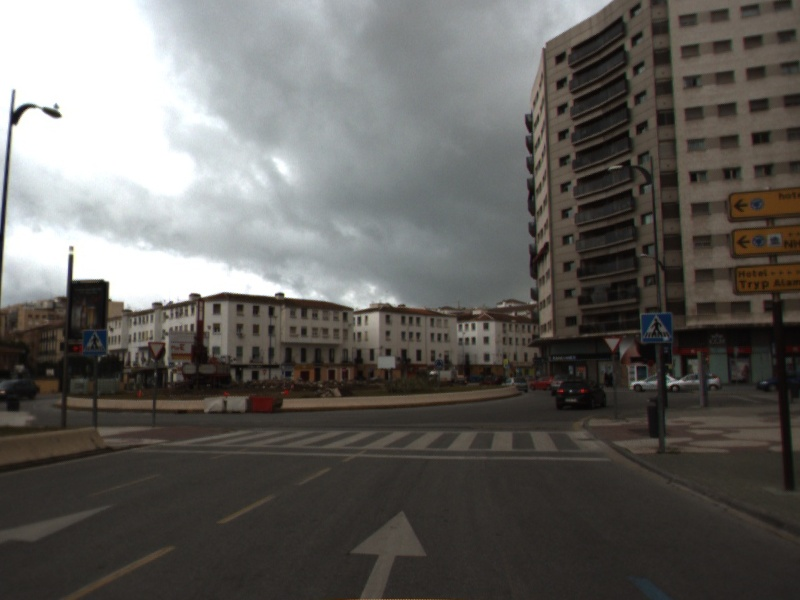STRAIGHT: (345, 504, 432, 600)
